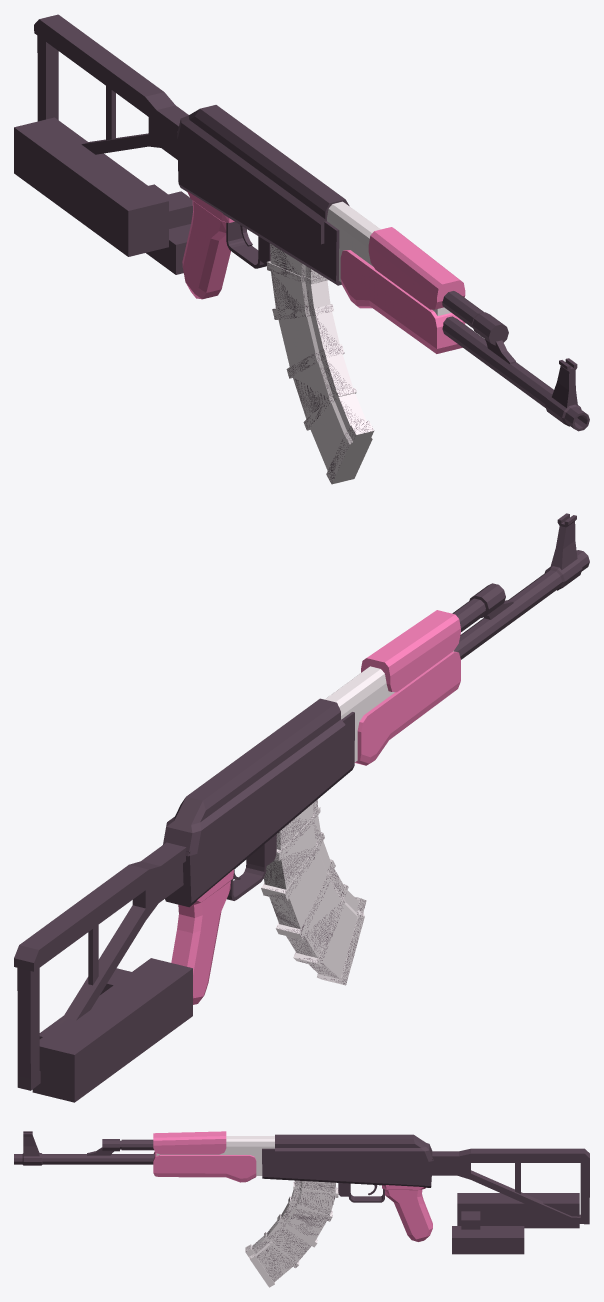
File: AssaultRifle_4.obj
The picture shows the model from 3 angles, top to bottom: view 1: azimuth 30°, elevation 25°; view 2: azimuth 150°, elevation 25°; view 3: azimuth 270°, elevation 25°; orthographic projection. The views are drawn at different scales.
Parts seen in each view (by area): view 1: Hardware, Body, Bolt, Grip, Mag; view 2: Hardware, Body, Grip, Bolt, Mag; view 3: Hardware, Body, Grip, Bolt, Mag.
Part boxes in pixels (x1,y1,x2,y2): Hardware: [34, 14, 589, 431]; Body: [266, 201, 451, 484]; Bolt: [14, 117, 192, 256]; Grip: [182, 191, 465, 353]; Mag: [267, 245, 372, 482]; Hardware: [14, 513, 589, 1090]; Body: [261, 651, 453, 985]; Grip: [171, 610, 460, 1004]; Bolt: [32, 958, 192, 1102]; Mag: [264, 800, 365, 984]; Hardware: [14, 1131, 589, 1254]; Body: [156, 1136, 338, 1287]; Grip: [153, 1131, 432, 1241]; Bolt: [457, 1193, 579, 1229]; Mag: [246, 1181, 337, 1281].
Bounding box in the file's own units: 0.5235 × 1.6 × 5.5.
